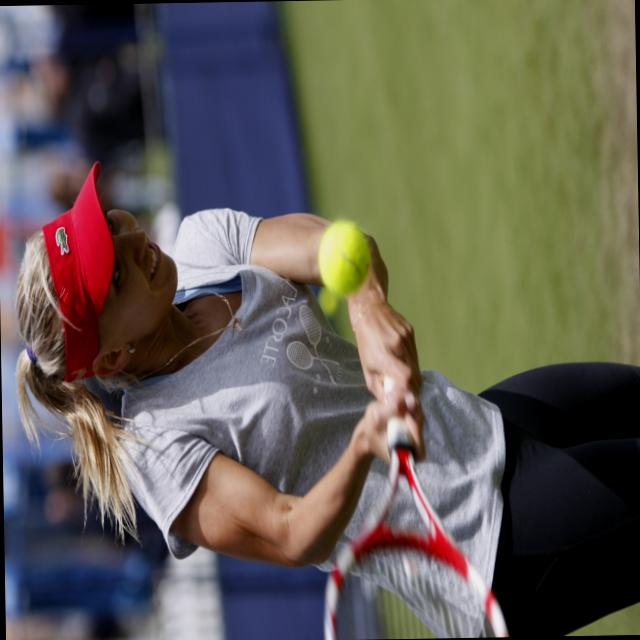Tennis Ball: (318, 226, 372, 295)
